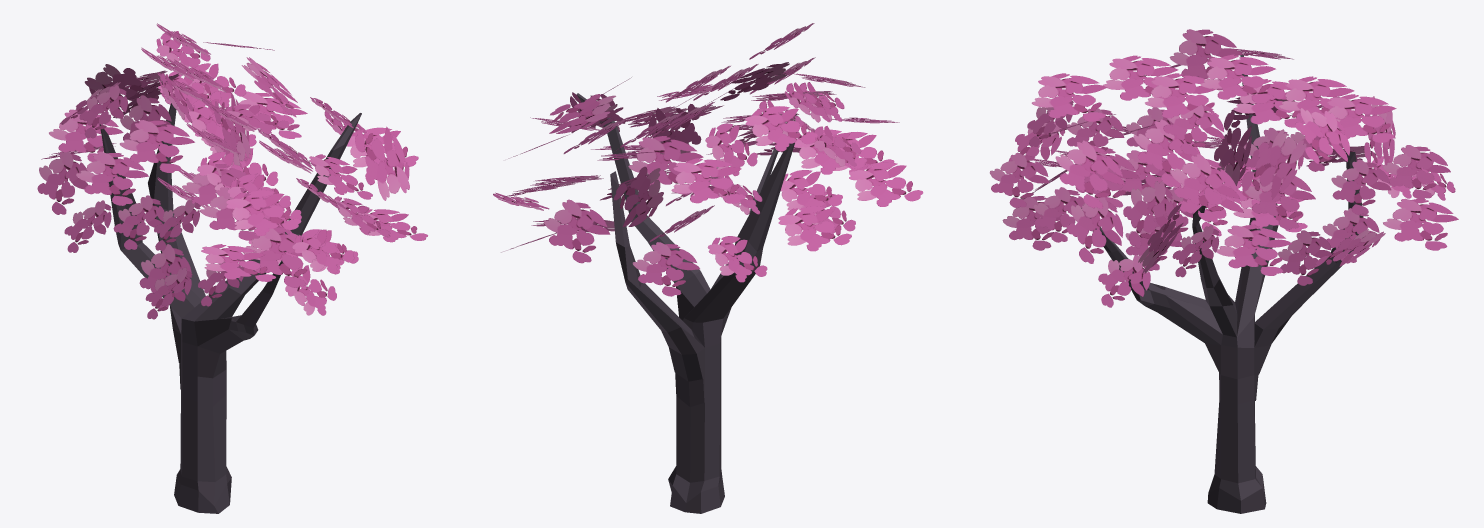
Rendered from CherryTree.fbx.
3 views of the same model, side by side, from view 1: azimuth 30°, elevation 25°; view 2: azimuth 150°, elevation 25°; view 3: azimuth 270°, elevation 25° (orthographic).
Parts seen in each view (by area): view 1: Tronco.001; view 2: Tronco.001; view 3: Tronco.001.
Part boxes in pixels (x1=…): Tronco.001: x1=37, y1=23, x2=427, y2=513; Tronco.001: x1=493, y1=23, x2=923, y2=513; Tronco.001: x1=989, y1=29, x2=1458, y2=513.
Size of the model in its own units: 514 by 631 by 639.
Materials: 2 (1 with a texture image).
